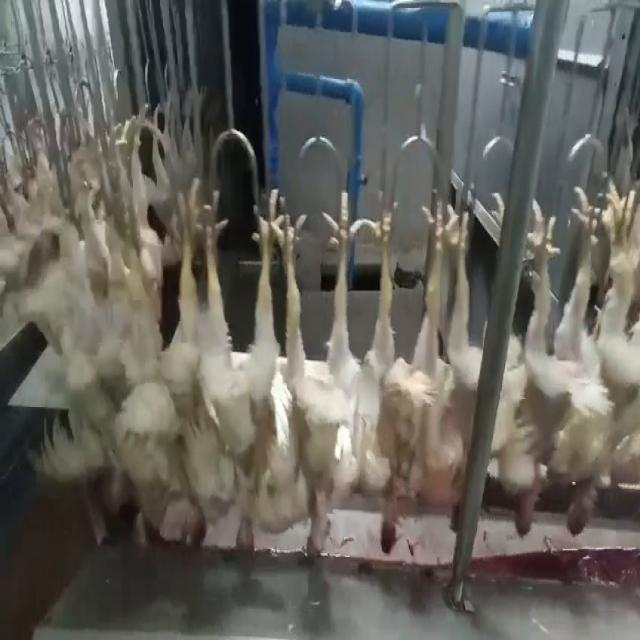chicken: (492, 189, 588, 542), (279, 178, 364, 562), (361, 183, 447, 555), (127, 177, 205, 549), (205, 186, 281, 564), (564, 176, 638, 540), (436, 182, 500, 529)
